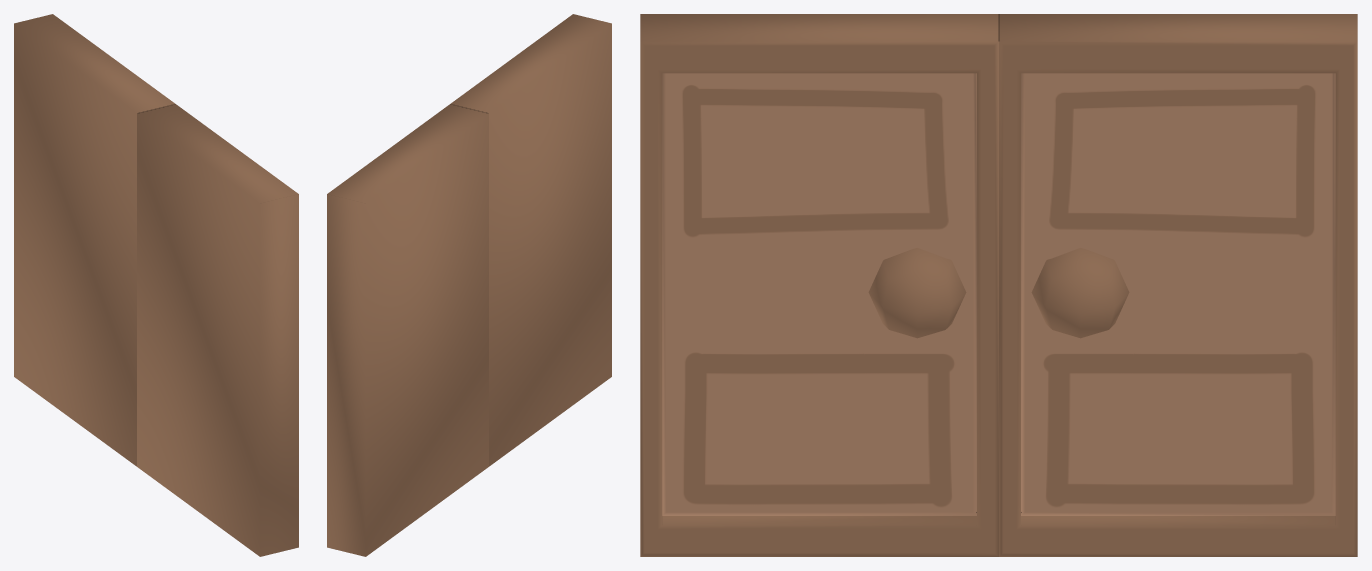
The model's file is doors.glb.
The picture shows the model from 3 angles, left to right: view 1: azimuth 30°, elevation 25°; view 2: azimuth 150°, elevation 25°; view 3: azimuth 270°, elevation 25°; orthographic projection. The views are drawn at different scales.
Visible parts, largest first — view 1: door, door.001; view 2: door.001, door; view 3: door, door.001.
Part boxes in pixels (box(x1,y1,x2,y2)): door: box(137, 104, 298, 556); door.001: box(14, 14, 175, 466); door.001: box(327, 104, 488, 556); door: box(450, 14, 611, 466); door: box(640, 14, 998, 556); door.001: box(999, 14, 1357, 556).
Size of the model in its own units: 0.6 by 3.49 by 4.4.
Materials: 1 (1 with a texture image).
